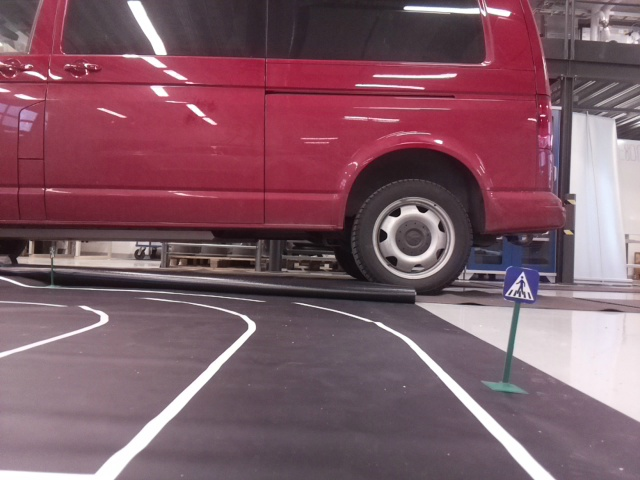Crosswalk: (505, 265, 536, 302)
